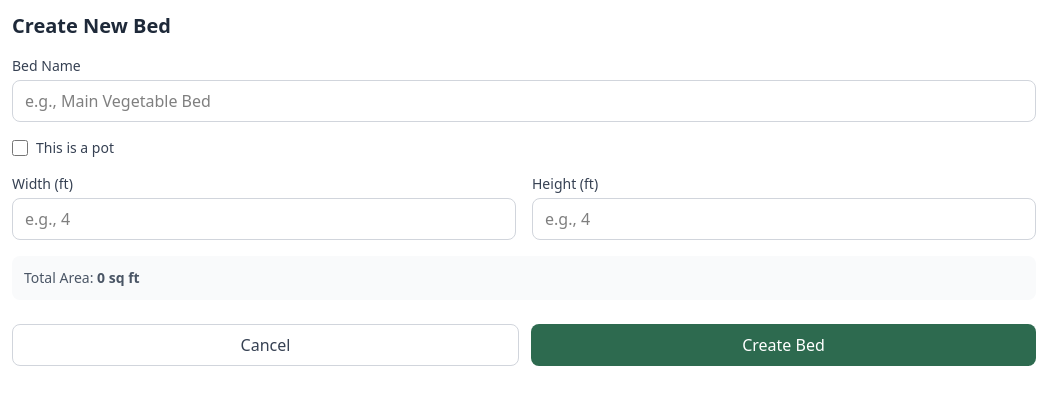
Test case: BedForm › validation - bed mode › validates name is non-empty
Type "4" into the number field labelled "Width (ft)".
click(264, 219); type("4")  # box [12, 198, 516, 240]
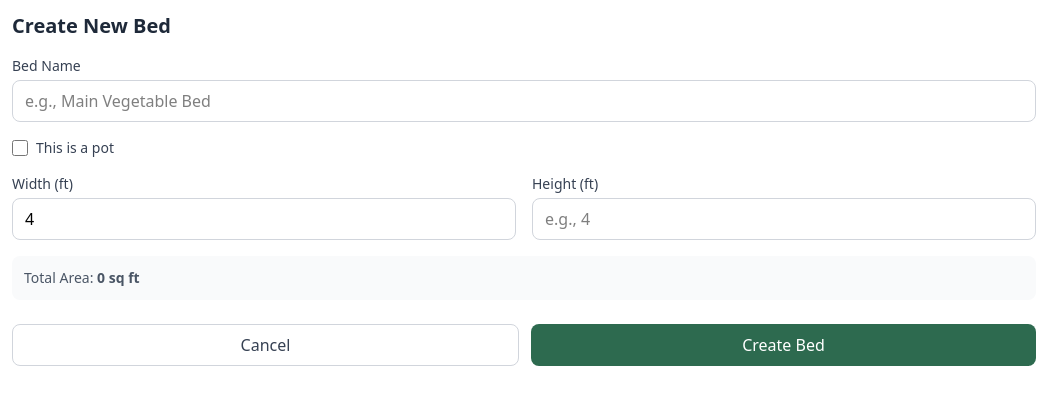
Type "4" into the number field labelled "Height (ft)".
click(784, 219); type("4")  # box [532, 198, 1036, 240]
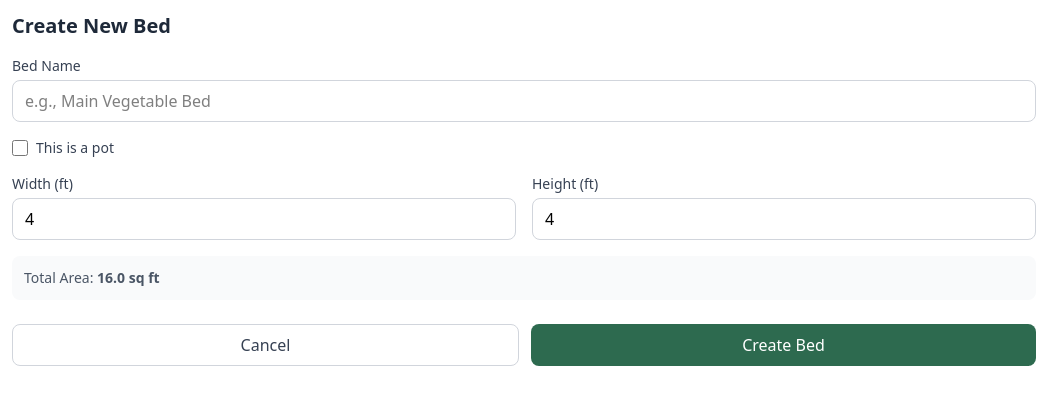
Click the button "Create Bed".
click(784, 345)  # box [531, 324, 1036, 366]
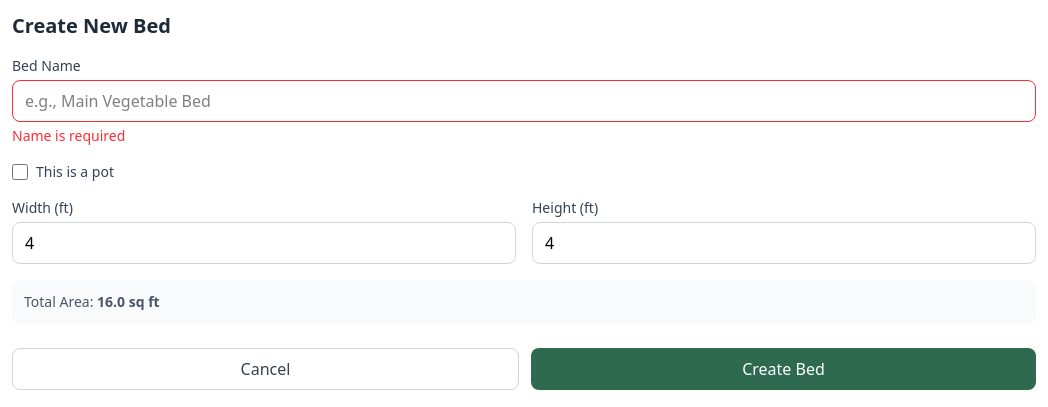
Check: the text "Name is required" is shown, box [12, 126, 125, 145]
